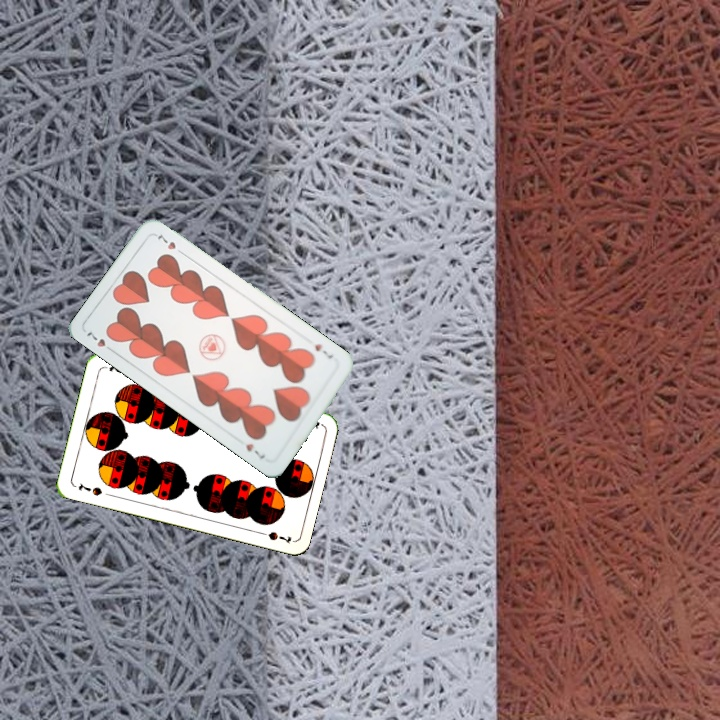H7: (83, 326, 117, 355), (311, 340, 336, 362)
S7: (74, 479, 105, 498)
